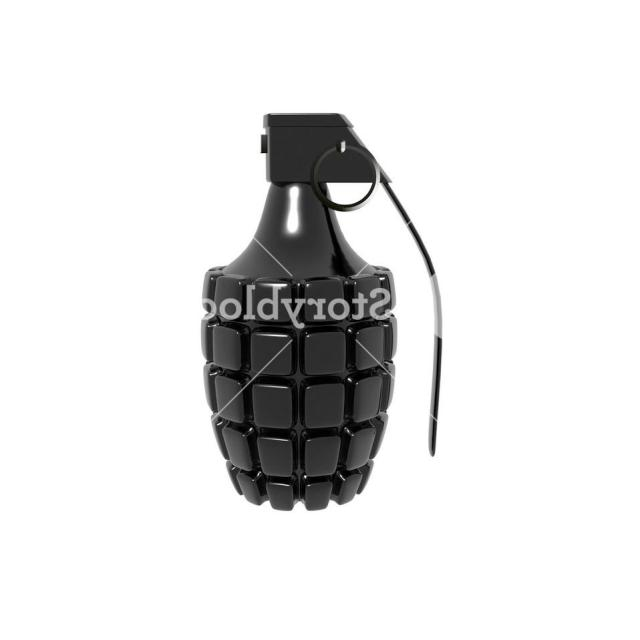grenade: (201, 113, 444, 512)
